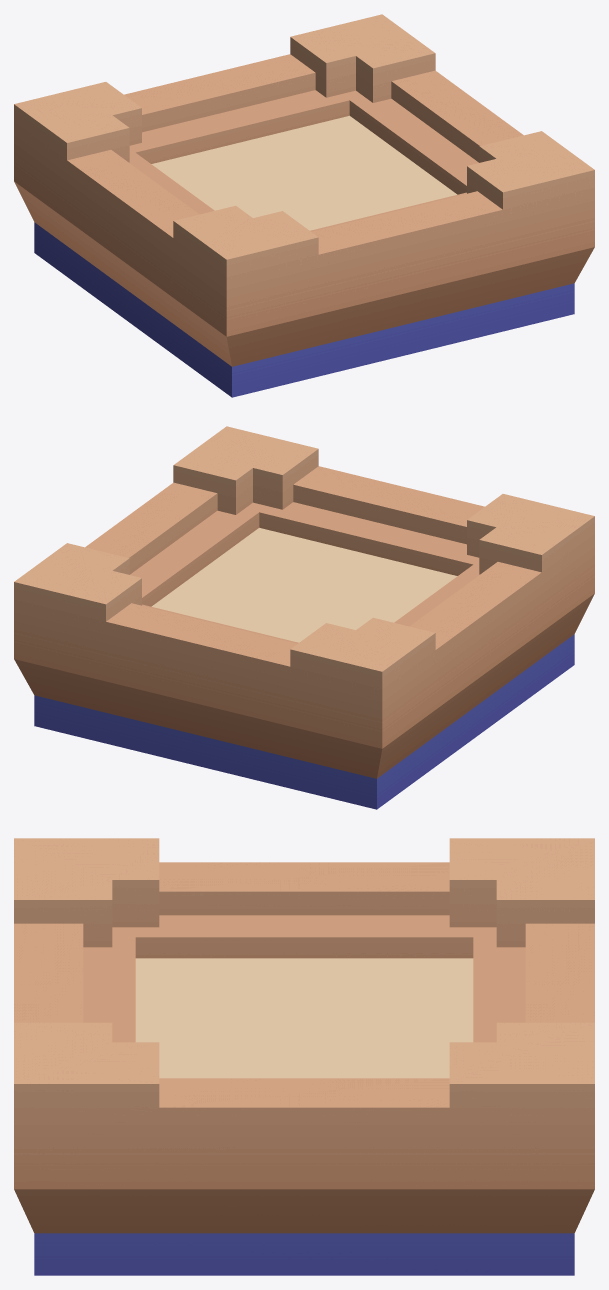
Rendered from tower-square-top-color.glb.
The picture shows the model from 3 angles, top to bottom: view 1: azimuth 30°, elevation 25°; view 2: azimuth 150°, elevation 25°; view 3: azimuth 270°, elevation 25°; orthographic projection. The views are drawn at different scales.
Parts seen in each view (by area): view 1: tower-square-top-color; view 2: tower-square-top-color; view 3: tower-square-top-color.
Boxes of the visible parts, x1,y1,x2,y2 form: tower-square-top-color: (14,14,594,397); tower-square-top-color: (14,426,594,809); tower-square-top-color: (14,838,594,1275).
Size of the model in its own units: 1 by 0.38 by 1.
Materials: 1 (1 with a texture image).
